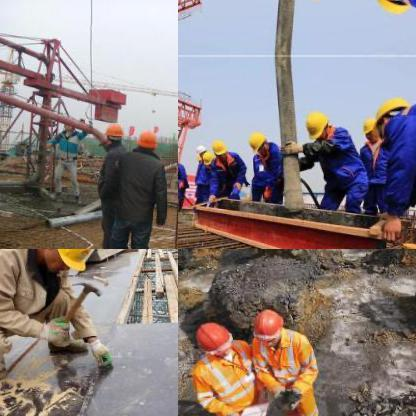Helmet: (33, 249, 101, 274), (192, 320, 232, 356), (250, 308, 284, 342), (359, 104, 385, 147), (374, 95, 408, 127), (303, 106, 329, 140), (134, 125, 156, 151), (246, 127, 266, 154), (374, 0, 409, 15), (209, 136, 231, 158), (104, 120, 124, 144), (200, 150, 216, 166), (192, 142, 204, 154), (358, 0, 386, 5), (302, 0, 331, 4)
